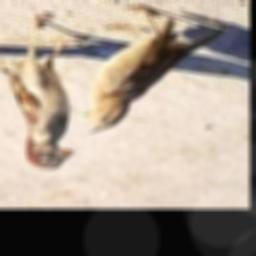Sparrow: (83, 5, 227, 135), (0, 12, 85, 171)
